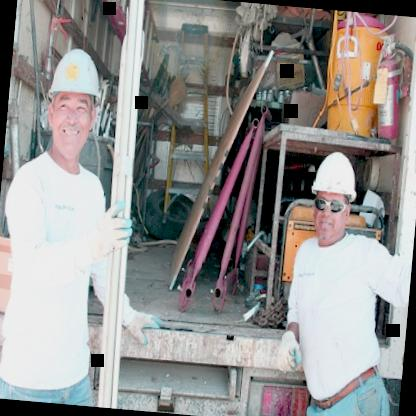helmet: (40, 36, 110, 171), (306, 142, 366, 251)
